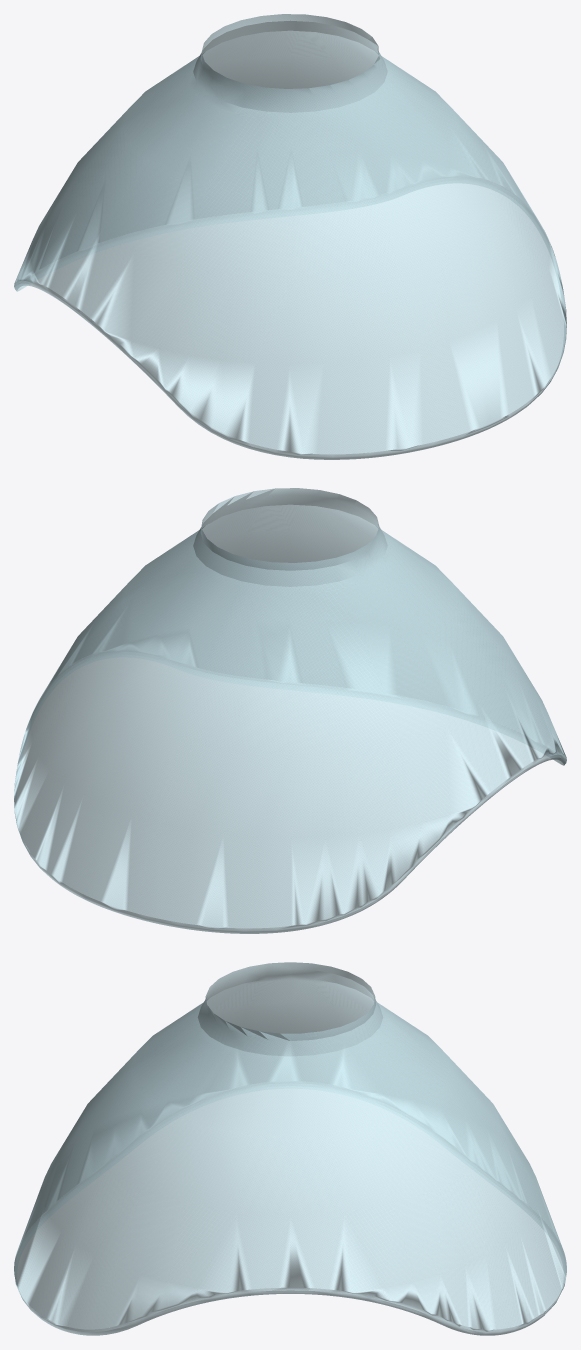
File: body_4.obj
The picture shows the model from 3 angles, top to bottom: view 1: azimuth 30°, elevation 25°; view 2: azimuth 150°, elevation 25°; view 3: azimuth 270°, elevation 25°; orthographic projection. The views are drawn at different scales.
Visible parts, largest first — view 1: mesh3/mesh3-geometry#mesh3-geometry; view 2: mesh3/mesh3-geometry#mesh3-geometry; view 3: mesh3/mesh3-geometry#mesh3-geometry.
Boxes of the visible parts, <box> form: mesh3/mesh3-geometry#mesh3-geometry: <box>14,14,566,459</box>; mesh3/mesh3-geometry#mesh3-geometry: <box>14,488,566,933</box>; mesh3/mesh3-geometry#mesh3-geometry: <box>14,962,566,1335</box>.
Size of the model in its own units: 0.4297 by 0.2681 by 0.4845.
Materials: 1 (1 with a texture image).
